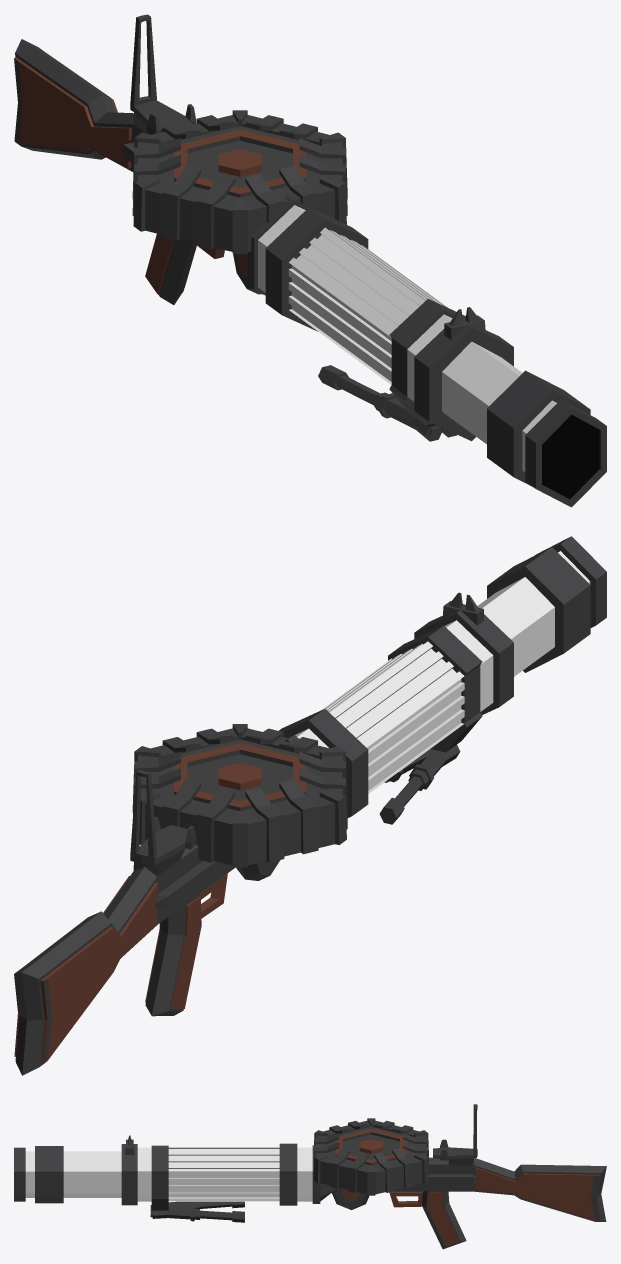
Rendered from Weap C.fbx.
3 views of the same model, one above another, from view 1: azimuth 30°, elevation 25°; view 2: azimuth 150°, elevation 25°; view 3: azimuth 270°, elevation 25° (orthographic). The views are drawn at different scales.
Visible parts, largest first — view 1: Plane; view 2: Plane; view 3: Plane.
Part boxes in pixels (box(x1,y1,x2,y2)): Plane: box(14, 14, 606, 507); Plane: box(14, 536, 606, 1075); Plane: box(14, 1104, 606, 1249).
Size of the model in its own units: 43.62 by 53.87 by 202.
